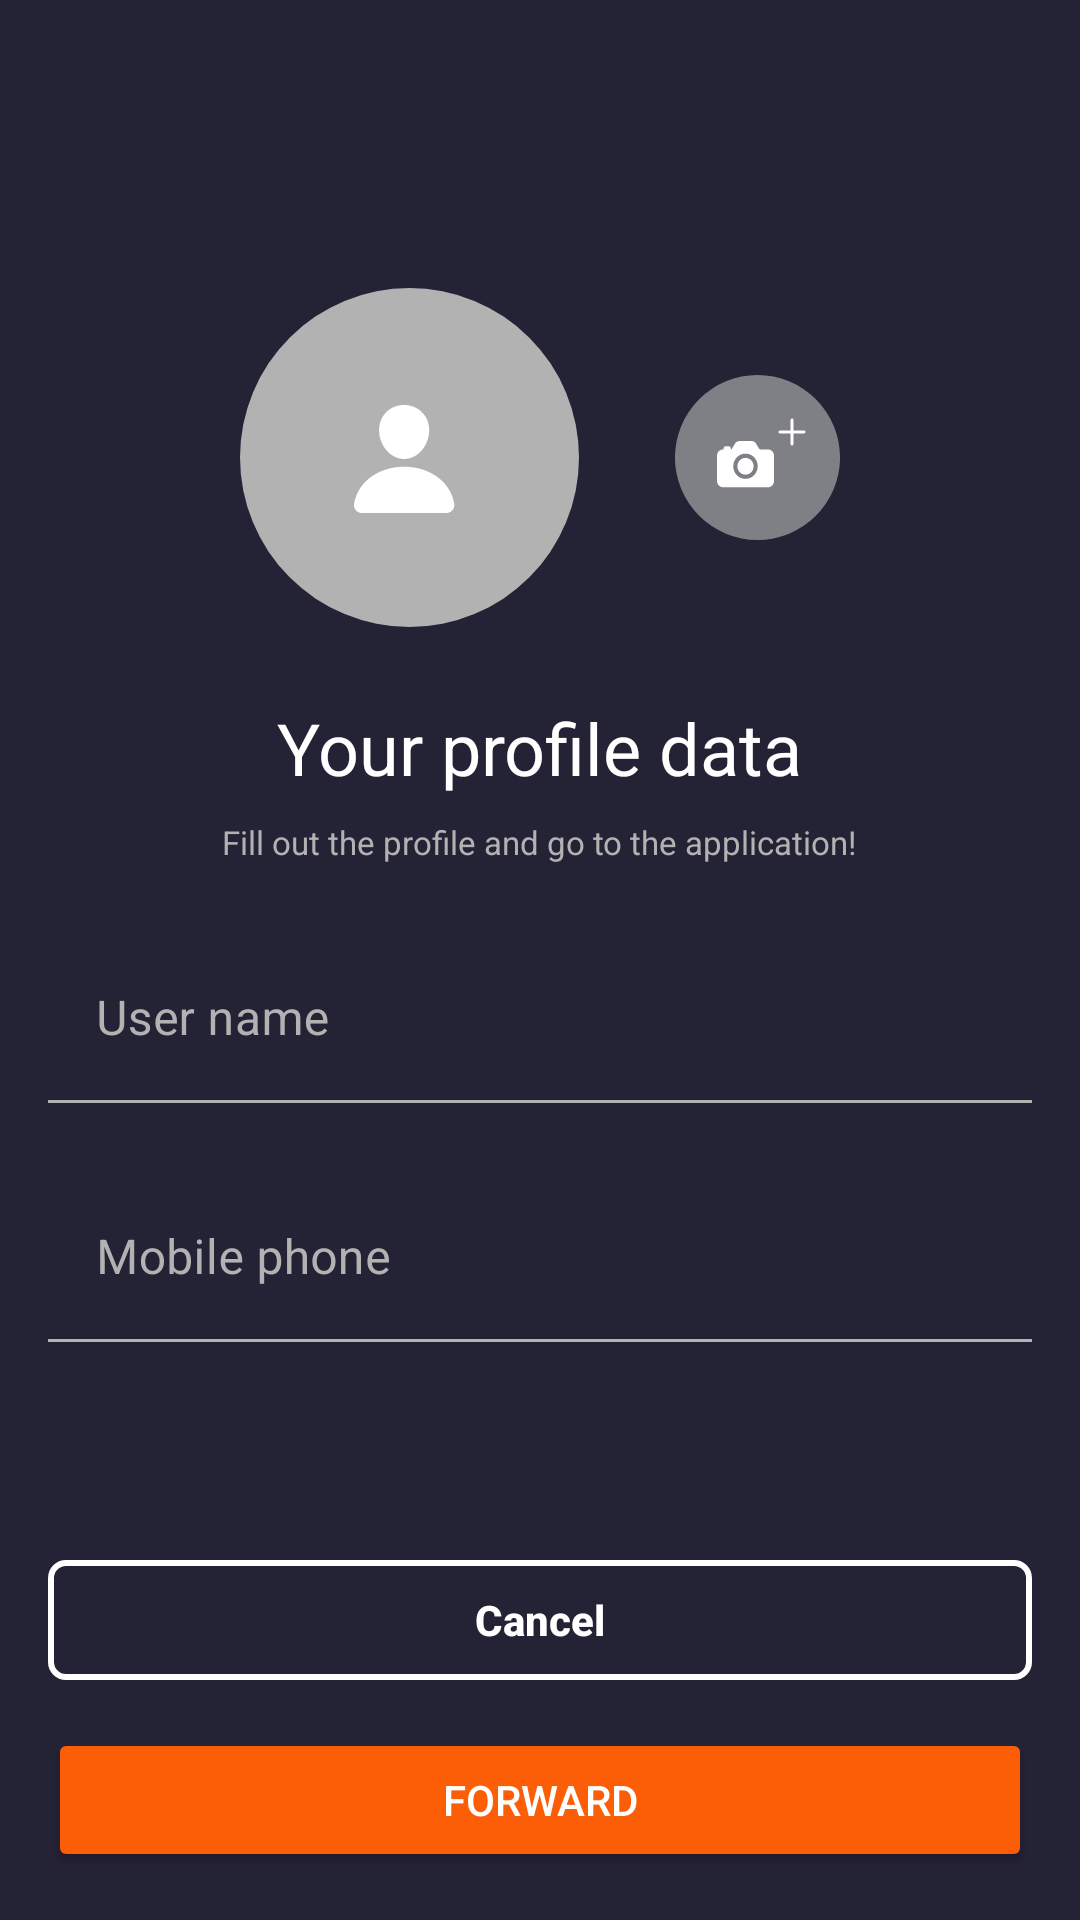

Locate icon controls on the screen. Image size 1080px x 1920px, boxes as (x1, y1, x2, y2).
add photo: (675, 375, 840, 540)
no photo: (240, 288, 579, 627)
